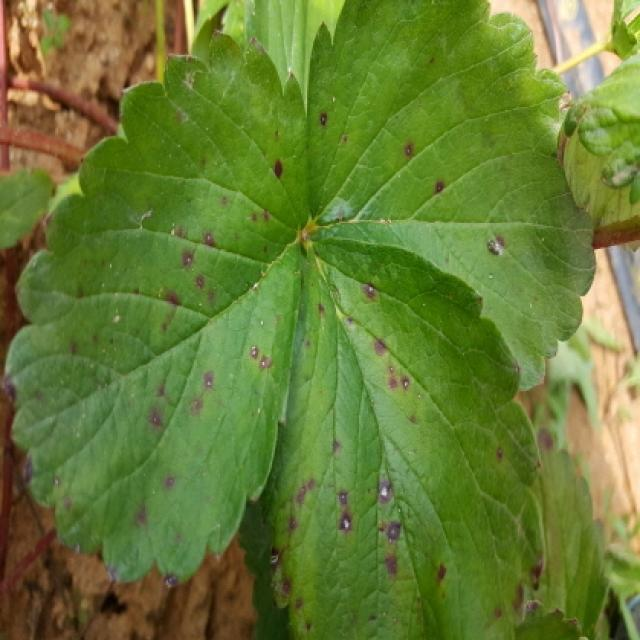Leaf Spot: (2, 29, 311, 591), (261, 232, 547, 638), (307, 0, 598, 393)
